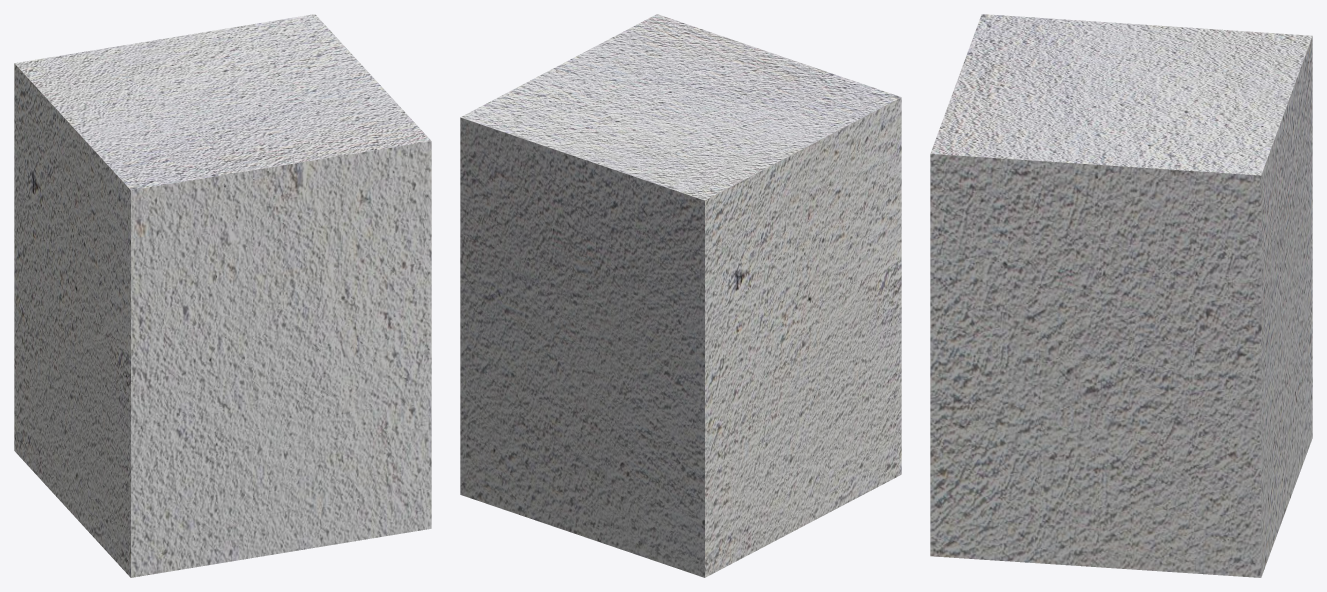
The model's file is EspacioTelefonica-OLD.gltf.
3 renders of one model, left to right at view 1: azimuth 30°, elevation 25°; view 2: azimuth 150°, elevation 25°; view 3: azimuth 270°, elevation 25°, orthographic. The views are drawn at different scales.
Visible parts, largest first — view 1: EspacioTelefonica; view 2: EspacioTelefonica; view 3: EspacioTelefonica.
Boxes of the visible parts, left/top/right/bottom form: EspacioTelefonica: left=14, top=14, right=431, bottom=577; EspacioTelefonica: left=460, top=14, right=901, bottom=577; EspacioTelefonica: left=930, top=14, right=1312, bottom=577.
Size of the model in its own units: 0.685 by 0.7956 by 0.685.
1 material, 1 textured.
